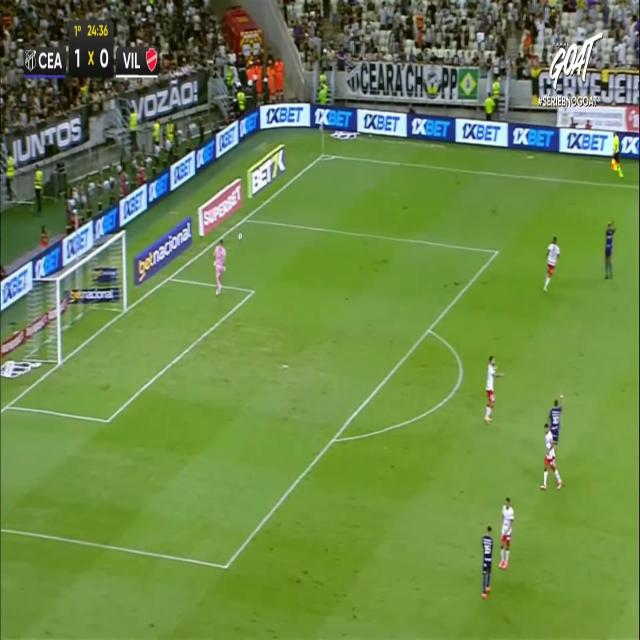ball: (239, 228, 243, 244)
goalkeeper: (213, 237, 226, 295)
player: (540, 422, 563, 489), (484, 355, 503, 422), (499, 495, 514, 568), (543, 236, 560, 291), (482, 524, 494, 597), (603, 220, 615, 278)
referee: (610, 129, 623, 179)
